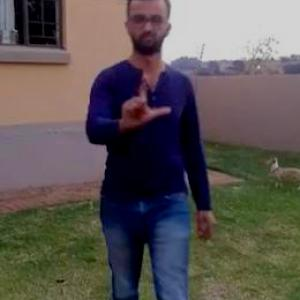land_hand: (114, 70, 172, 135)
